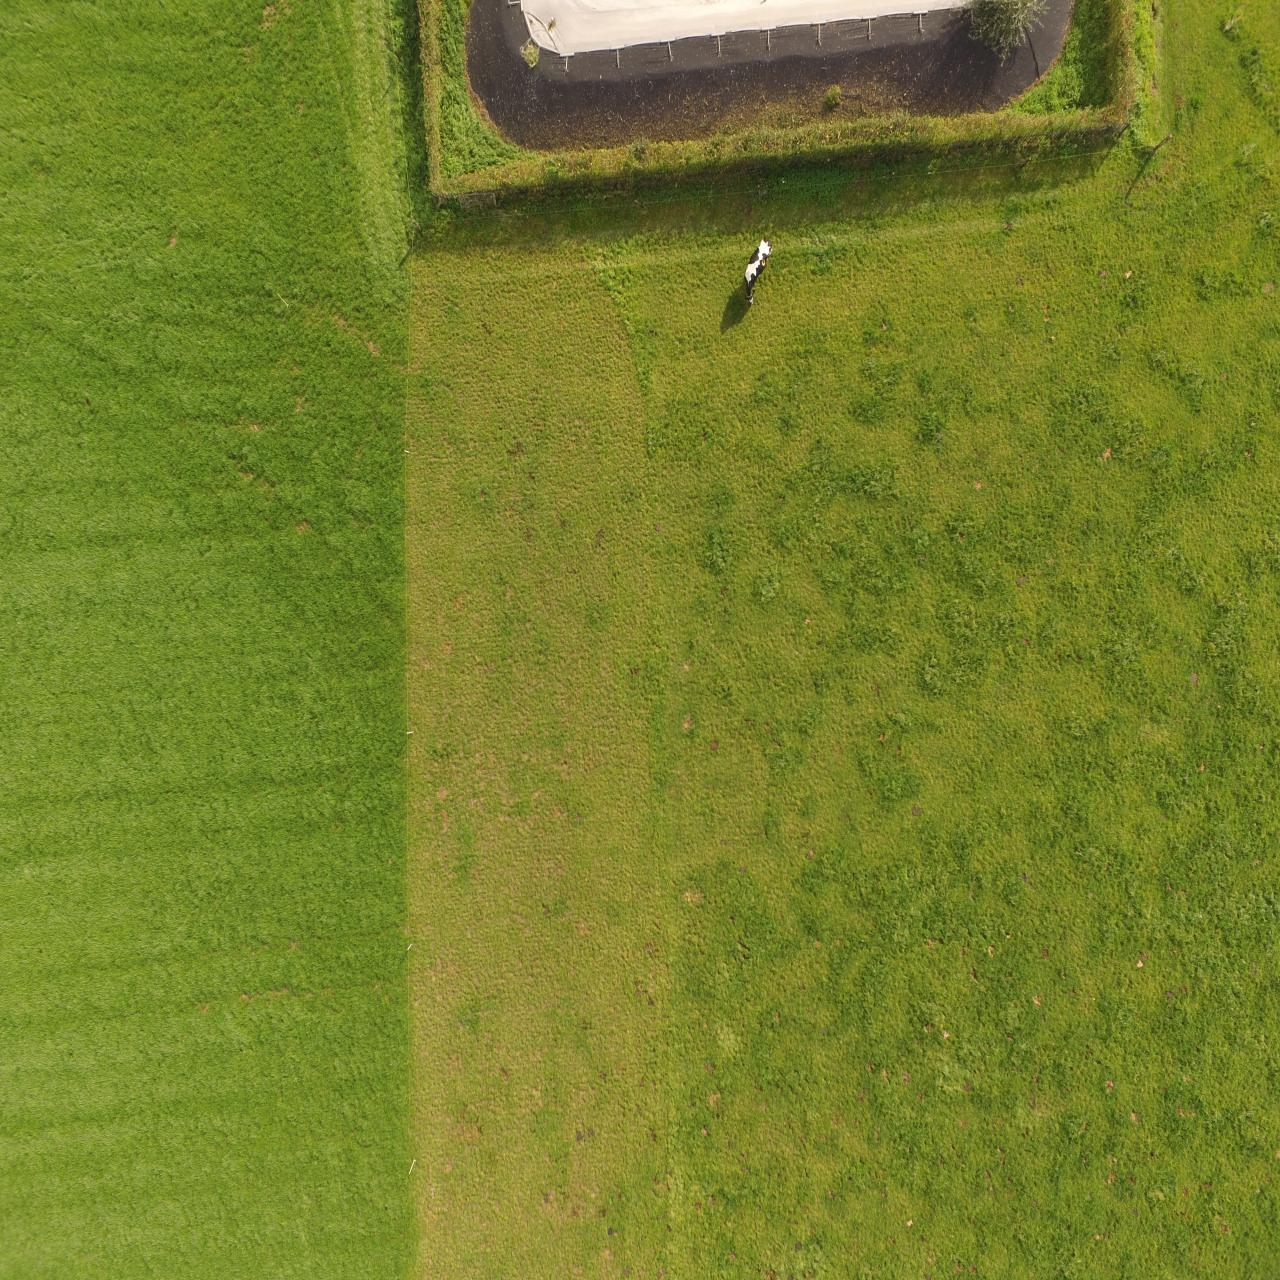cow: (743, 237, 772, 305)
